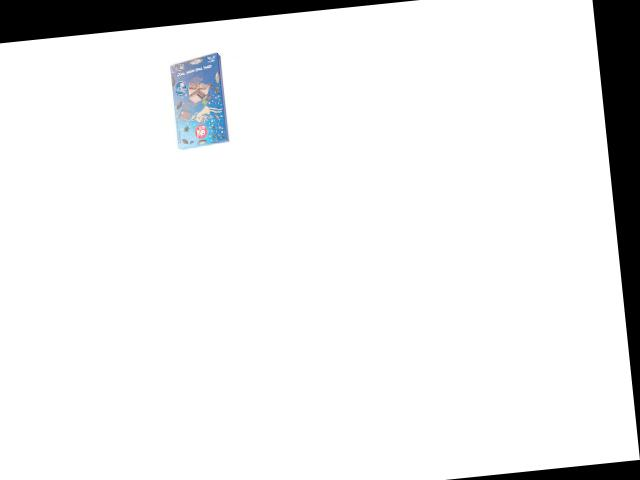chocolate: (162, 51, 236, 152)
